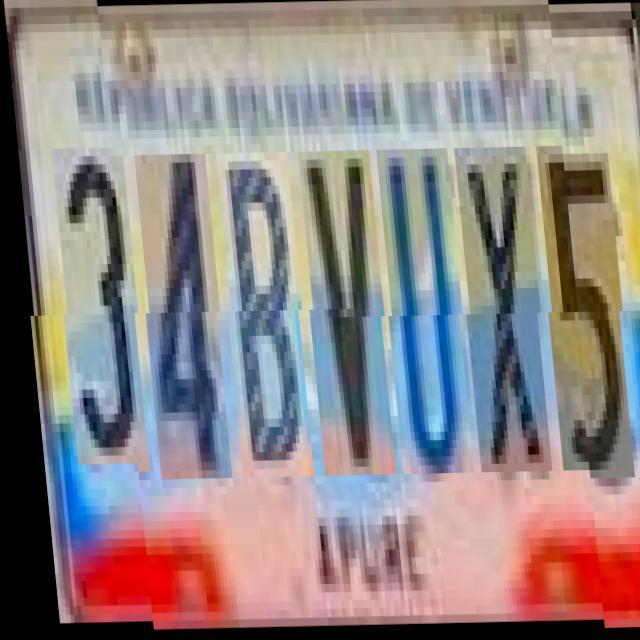3: (50, 156, 144, 473)
4: (131, 155, 226, 480)
5: (533, 148, 628, 473)
B: (213, 154, 308, 478)
U: (373, 150, 468, 476)
V: (294, 152, 390, 477)
X: (451, 149, 546, 474)
